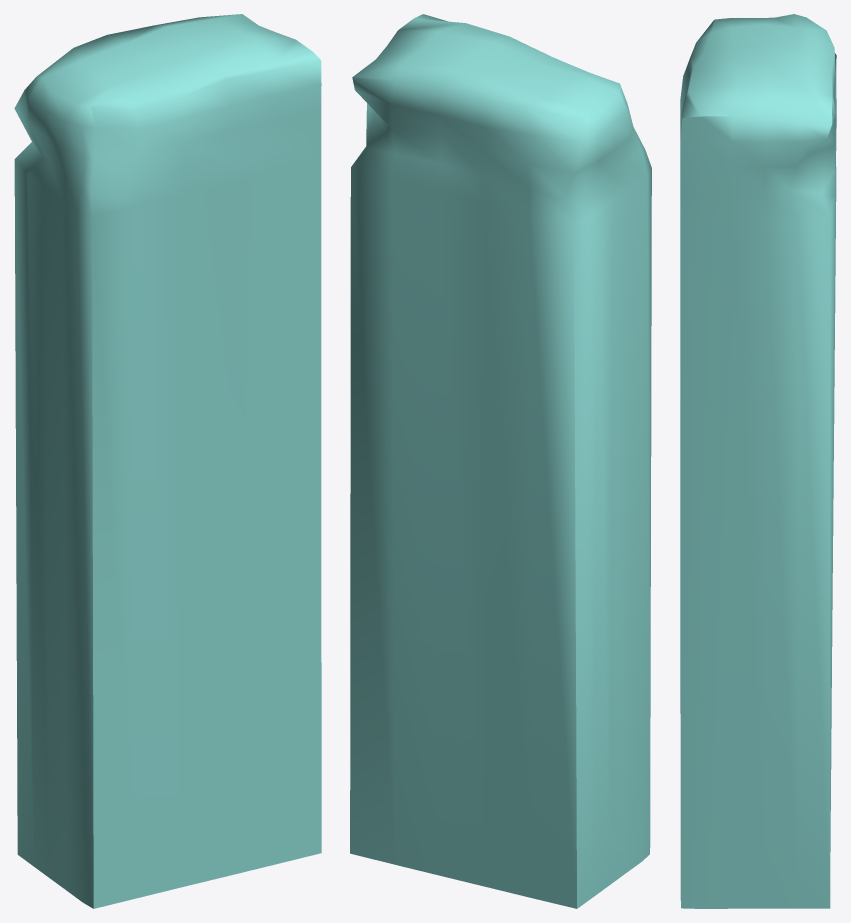
The picture shows the model from 3 angles, left to right: view 1: azimuth 30°, elevation 25°; view 2: azimuth 150°, elevation 25°; view 3: azimuth 270°, elevation 25°; orthographic projection.
Visible parts, largest first — view 1: Cube.010; view 2: Cube.010; view 3: Cube.010.
Boxes of the visible parts, <box> form: Cube.010: <box>14,14,321,908</box>; Cube.010: <box>350,14,651,908</box>; Cube.010: <box>680,14,836,908</box>.
Bounding box in the file's own units: 976 × 3180 × 560.
